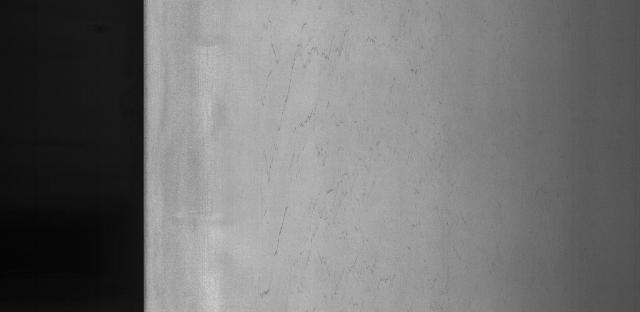silk_spot: (240, 5, 405, 294)
